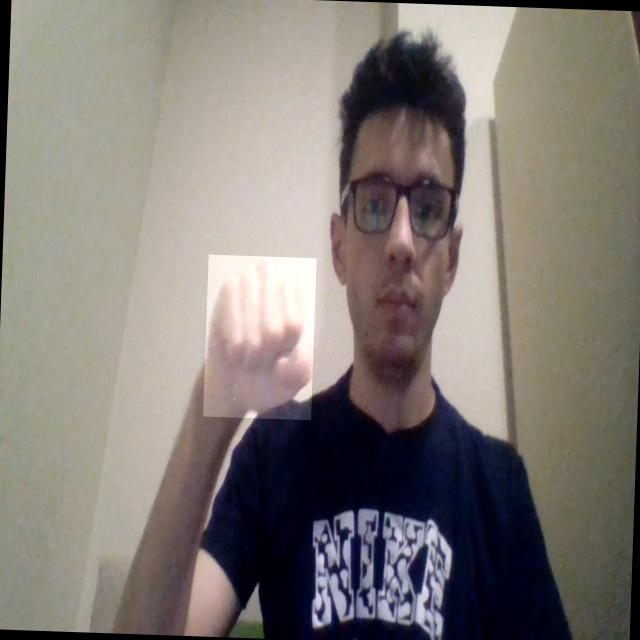yes: (202, 254, 316, 420)
